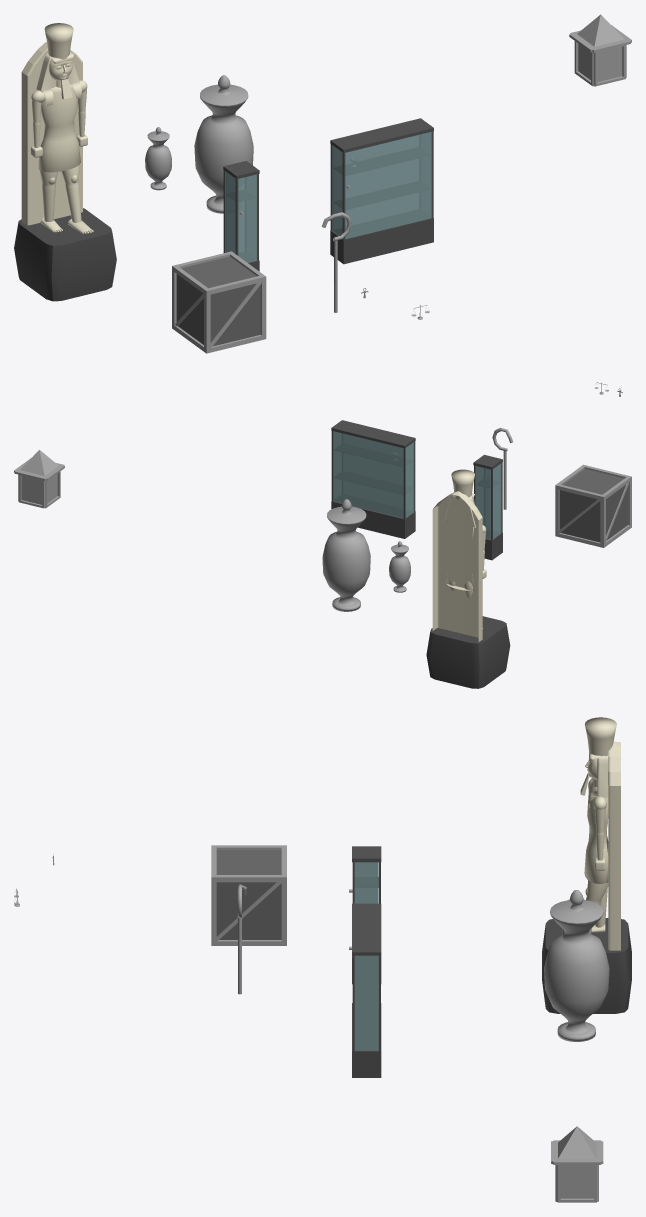
File: EgiptDecor.fbx
The picture shows the model from 3 angles, top to bottom: view 1: azimuth 30°, elevation 25°; view 2: azimuth 150°, elevation 25°; view 3: azimuth 270°, elevation 25°; orthographic projection. The views are drawn at different scales.
Parts seen in each view (by area): view 1: Statue, Door (×2), Box, BigShelfStorage, Bowl2, ShelfStorage, Pedistal2, Bowl, Shelf1, Shelf, Piramide, Staff; view 2: Statue, BigShelfStorage, Box, Bowl2, ShelfStorage, Pedistal2, Bowl, Shelf1, Shelf, Piramide; view 3: Statue, Box, Bowl2, BigShelfStorage, Pedistal2, ShelfStorage, Piramide, Shelf1.
Part boxes in pixels (box(x1,y1,x2,y2)): Statue: box(14, 23, 116, 301); Door (×2): box(238, 131, 431, 262); Box: box(172, 251, 266, 353); BigShelfStorage: box(330, 118, 433, 264); Bowl2: box(194, 75, 253, 213); ShelfStorage: box(223, 161, 259, 271); Pedistal2: box(569, 24, 631, 86); Bowl: box(145, 127, 171, 190); Shelf1: box(334, 181, 429, 209); Shelf: box(334, 147, 429, 175); Piramide: box(577, 14, 624, 46); Staff: box(322, 212, 351, 312); Statue: box(426, 469, 510, 688); BigShelfStorage: box(331, 420, 415, 538); Box: box(555, 464, 631, 547); Bowl2: box(322, 499, 370, 611); ShelfStorage: box(473, 454, 502, 560); Pedistal2: box(14, 458, 64, 508); Bowl: box(389, 541, 410, 592); Shelf1: box(334, 471, 412, 493); Shelf: box(335, 444, 412, 466); Piramide: box(20, 450, 58, 475); Statue: box(542, 717, 631, 1013); Box: box(211, 845, 286, 945); Bowl2: box(544, 890, 609, 1041); BigShelfStorage: box(352, 903, 381, 1077); Pedistal2: box(551, 1140, 603, 1202); ShelfStorage: box(352, 846, 381, 984); Piramide: box(558, 1126, 596, 1158); Shelf1: box(355, 981, 378, 1018).
Bounding box in the file's own units: 0.2737 × 0.1107 × 0.2271.
